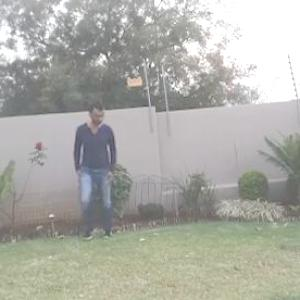follow: (63, 94, 113, 251)
